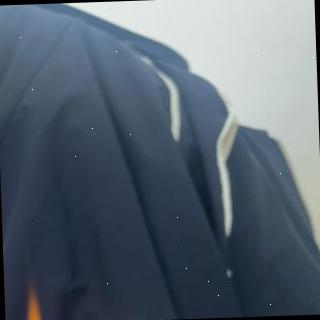fire: (23, 291, 47, 320)
